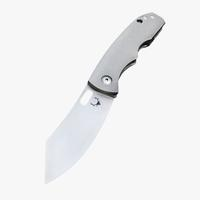knife: (43, 12, 160, 189)
